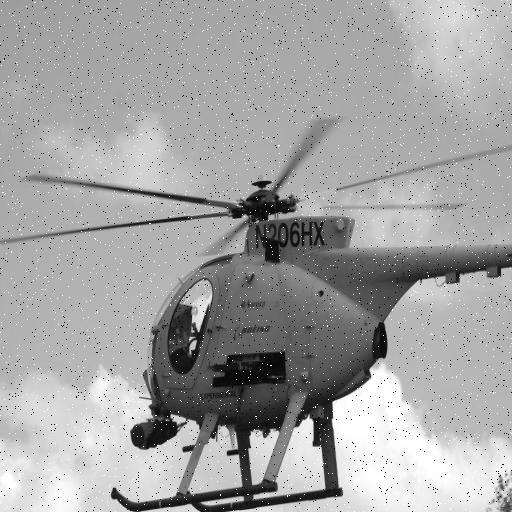helicopter: (1, 118, 512, 512)
